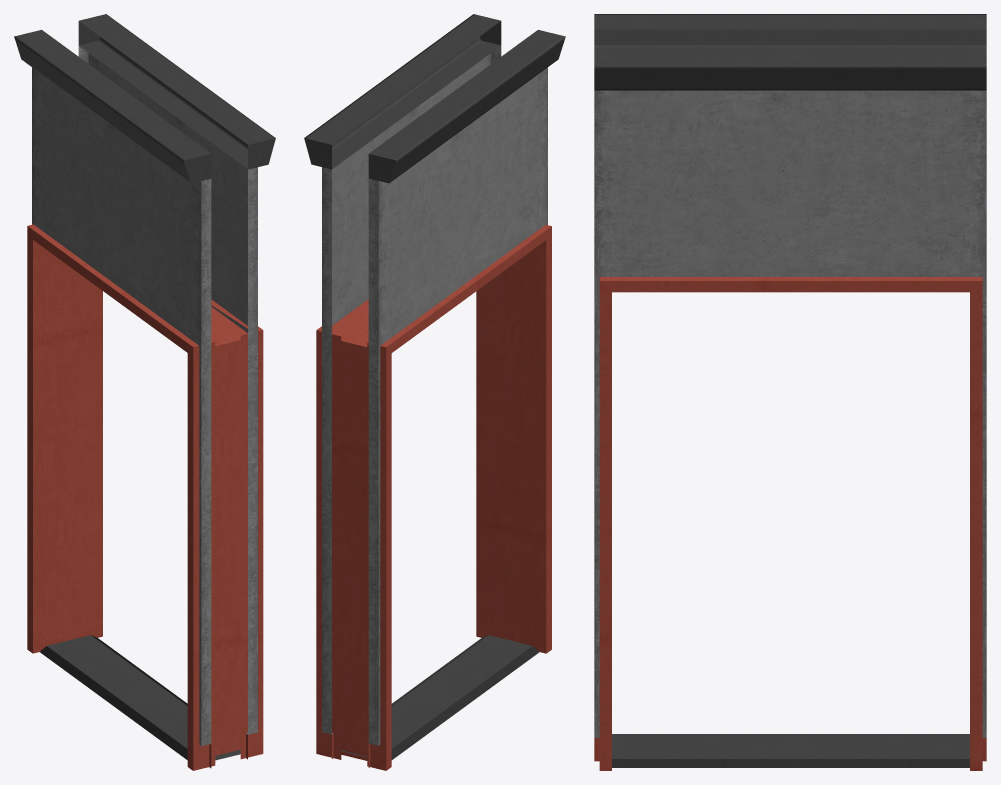
File: SM_dev_wall_doorway_a_200_x_300.fbx
3 renders of one model, left to right at view 1: azimuth 30°, elevation 25°; view 2: azimuth 150°, elevation 25°; view 3: azimuth 270°, elevation 25°, orthographic. The views are drawn at different scales.
Visible parts, largest first — view 1: polySurface679, polySurface677, polySurface675; view 2: polySurface679, polySurface677, polySurface675; view 3: polySurface677, polySurface675, polySurface679.
Boxes of the visible parts, x1,y1,x2,y2 form: polySurface679: (27, 224, 263, 770); polySurface677: (32, 46, 257, 746); polySurface675: (14, 14, 275, 760); polySurface679: (316, 225, 551, 770); polySurface677: (322, 46, 547, 745); polySurface675: (304, 14, 565, 759); polySurface677: (594, 90, 986, 737); polySurface675: (594, 14, 986, 767); polySurface679: (594, 277, 986, 770).
Bounding box in the file's own units: 0.6282 × 4 × 2.
